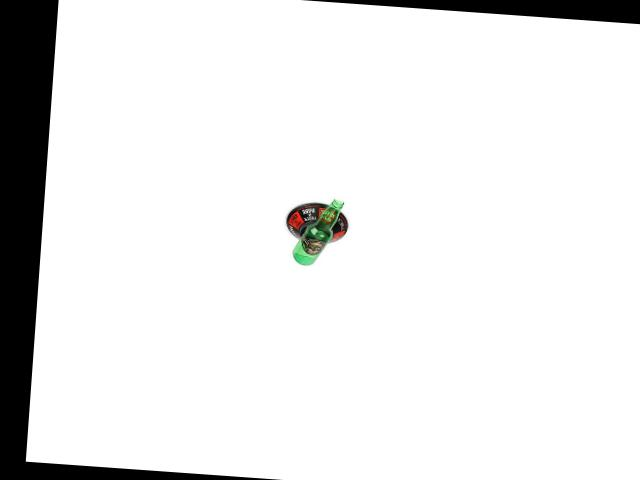beer: (290, 195, 343, 267)
